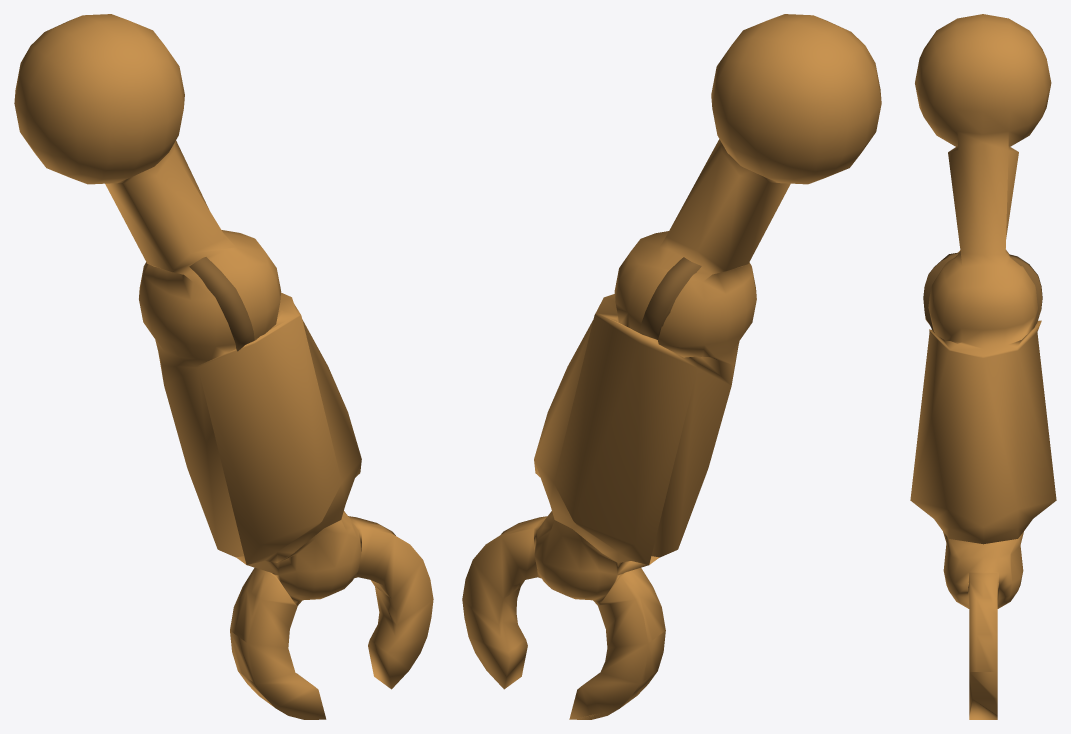
Rendered from Arm_R.fbx.
The picture shows the model from 3 angles, left to right: view 1: azimuth 30°, elevation 25°; view 2: azimuth 150°, elevation 25°; view 3: azimuth 270°, elevation 25°; orthographic projection. The views are drawn at different scales.
Parts seen in each view (by area): view 1: Time.003; view 2: Time.003; view 3: Time.003.
Part boxes in pixels (bbox=[...]): Time.003: bbox=[14, 14, 433, 719]; Time.003: bbox=[462, 14, 881, 719]; Time.003: bbox=[910, 14, 1056, 719].
Size of the model in its own units: 46.36 by 82.69 by 18.29.
